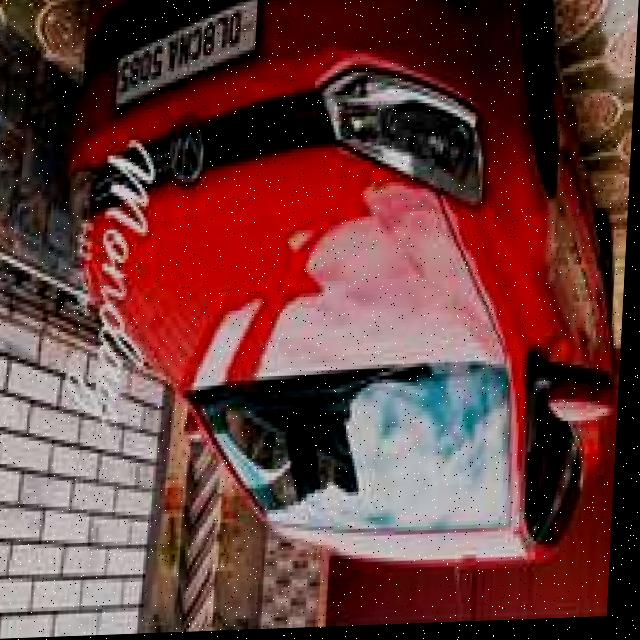plate: (114, 0, 261, 111)
